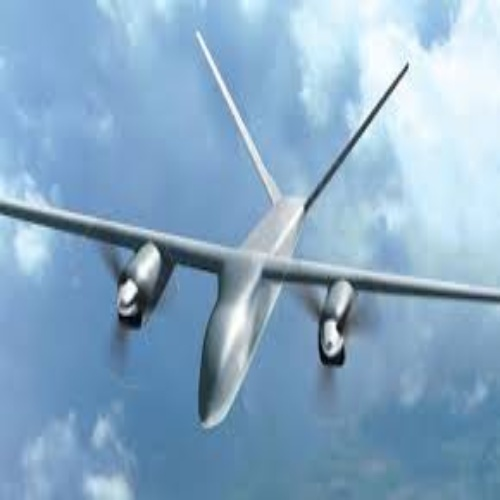uav118: (1, 28, 500, 431)
